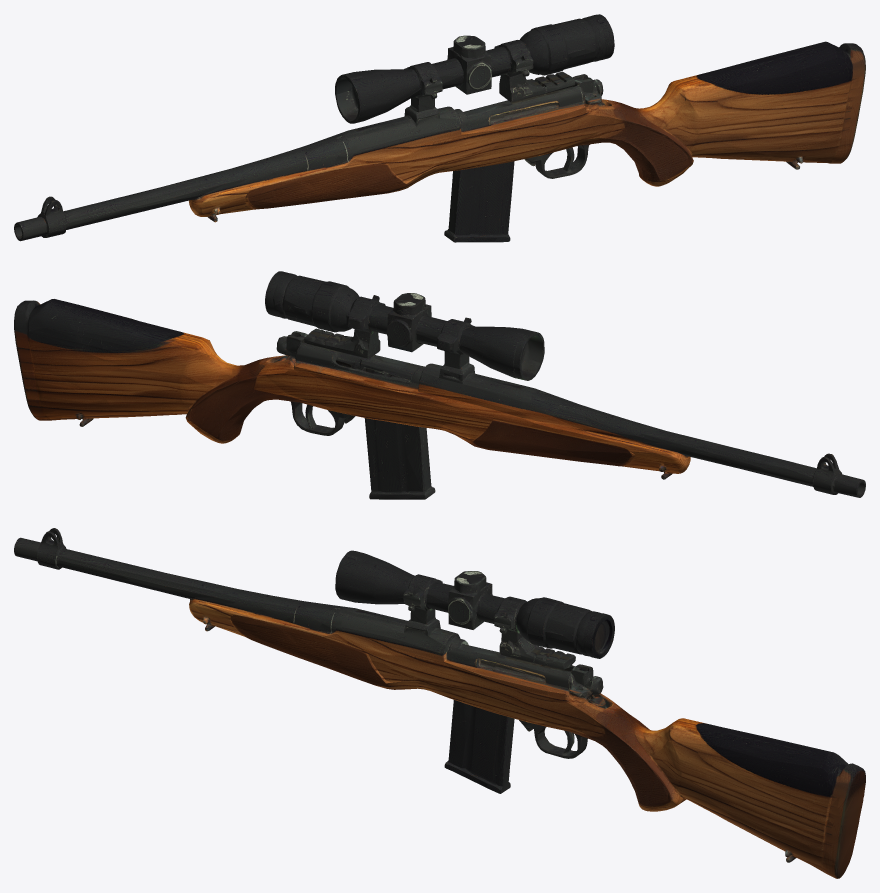
3 renders of one model, top to bottom at view 1: azimuth 30°, elevation 25°; view 2: azimuth 150°, elevation 25°; view 3: azimuth 330°, elevation 25°, orthographic.
Bounding box in the file's own units: 1.9 × 0.4545 × 0.099.
Materials: 1 (1 with a texture image).
